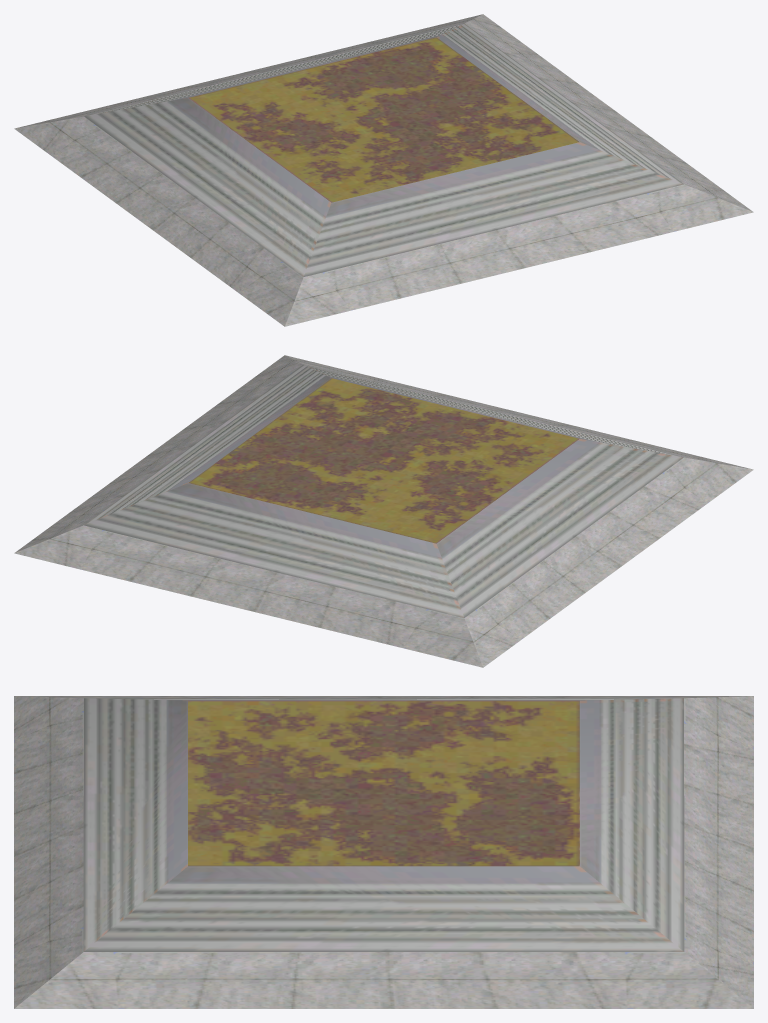
The model's file is ply_corl_garden_lrg_s01_l2.fbx.
The picture shows the model from 3 angles, top to bottom: view 1: azimuth 30°, elevation 25°; view 2: azimuth 150°, elevation 25°; view 3: azimuth 270°, elevation 25°; orthographic projection. The views are drawn at different scales.
Visible parts, largest first — view 1: mesh_node; view 2: mesh_node; view 3: mesh_node.
Boxes of the visible parts, x1=… form: mesh_node: x1=14, y1=14, x2=753, y2=326; mesh_node: x1=14, y1=355, x2=753, y2=667; mesh_node: x1=14, y1=696, x2=753, y2=1008.
Size of the model in its own units: 49.09 by 5.05 by 49.07.
